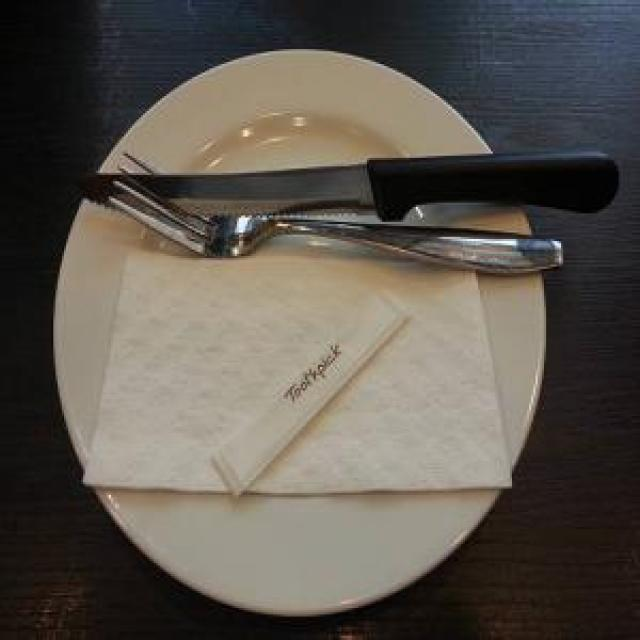knife: (70, 147, 623, 220)
